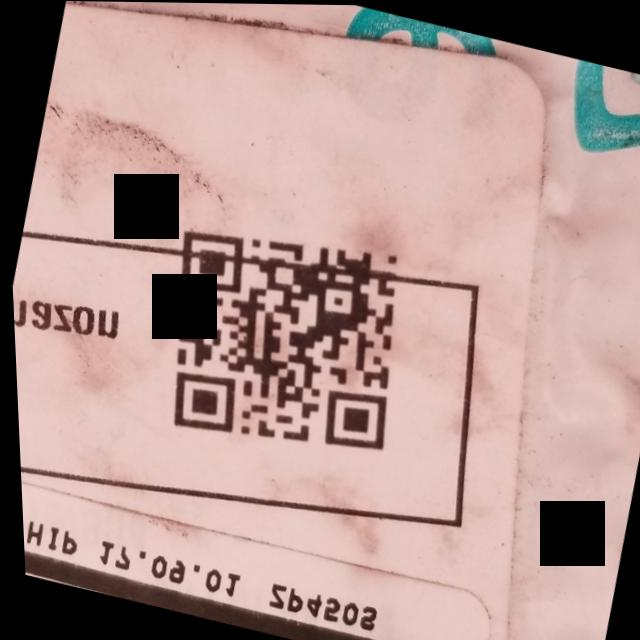QR_CODE: (113, 187, 434, 504)
